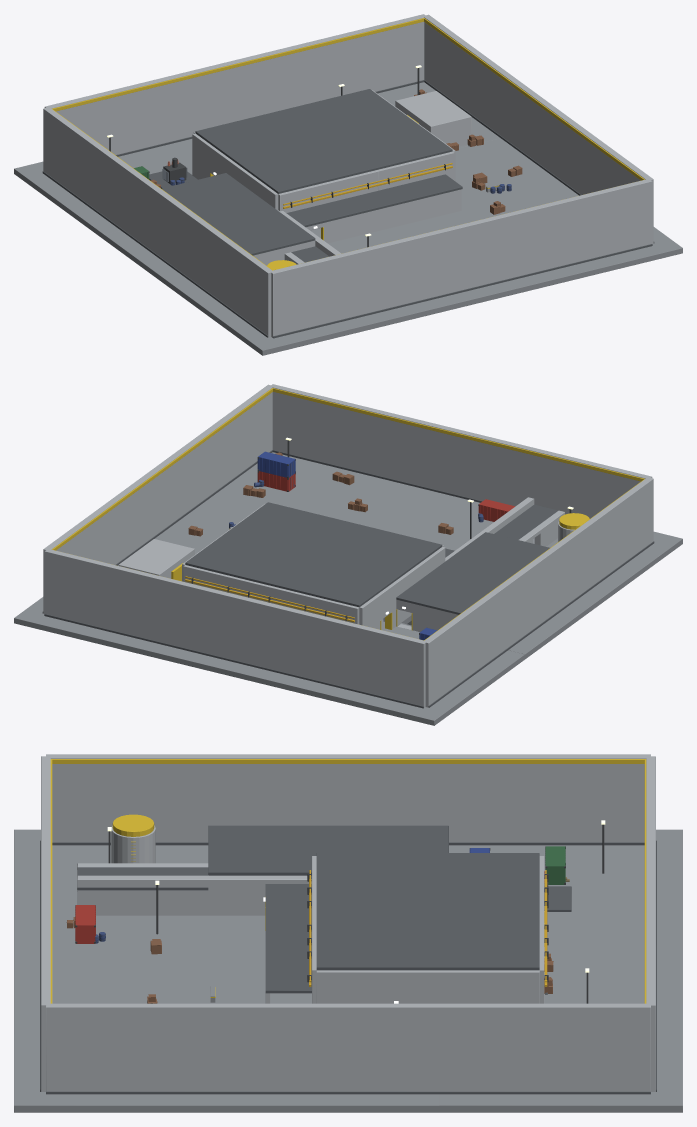
File: hd_nuke.glb
3 renders of one model, top to bottom at view 1: azimuth 30°, elevation 25°; view 2: azimuth 150°, elevation 25°; view 3: azimuth 270°, elevation 25°, orthographic. The views are drawn at different scales.
Parts seen in each view (by area): view 1: Wall_Perimeter_S, Wall_Perimeter_N, Wall_Perimeter_W, SiteA_Roof_Deck, Wall_Perimeter_E, Terrain_Concrete_Ground_4, Terrain_Concrete_Ground_0, SiteB_Roof, Terrain_Concrete_Ground_1, Lobby_Roof, Lobby_Wall_S_B, Terrain_Concrete_Ground_2 (+10 smaller); view 2: Wall_Perimeter_N, Wall_Perimeter_S, Wall_Perimeter_W, SiteA_Roof_Deck, Wall_Perimeter_E, Terrain_Concrete_Ground_4, Terrain_Concrete_Ground_1, SiteB_Roof, Terrain_Concrete_Ground_2, Trim_Kerb_NonCol, Terrain_Concrete_Ground_0, SiteA_Wall_N_B (+15 smaller); view 3: Wall_Perimeter_E, Wall_Perimeter_W, SiteA_Roof_Deck, Terrain_Concrete_Ground_1, Terrain_Concrete_Ground_4, Terrain_Concrete_Ground_0, SiteB_Roof, SiteB_Wall_E, Lobby_Roof, SiteA_Wall_E_B, Trim_Kerb_NonCol, Hazard_Trim_W (+16 smaller).
Part boxes in pixels (x1,y1,x2,y2): Wall_Perimeter_S: [270, 179, 652, 337]; Wall_Perimeter_N: [44, 14, 426, 154]; Wall_Perimeter_W: [43, 107, 273, 337]; SiteA_Roof_Deck: [195, 89, 452, 193]; Wall_Perimeter_E: [424, 14, 653, 243]; Terrain_Concrete_Ground_4: [311, 138, 658, 253]; Terrain_Concrete_Ground_0: [239, 231, 682, 355]; SiteB_Roof: [161, 173, 315, 255]; Terrain_Concrete_Ground_1: [14, 82, 500, 239]; Lobby_Roof: [286, 174, 462, 227]; Lobby_Wall_S_B: [323, 189, 461, 243]; Terrain_Concrete_Ground_2: [104, 231, 255, 338]; Wall_Perimeter_N: [44, 549, 426, 707]; Wall_Perimeter_S: [270, 384, 652, 518]; Wall_Perimeter_W: [424, 477, 653, 707]; SiteA_Roof_Deck: [185, 502, 442, 607]; Wall_Perimeter_E: [43, 384, 273, 613]; Terrain_Concrete_Ground_4: [154, 463, 493, 619]; Terrain_Concrete_Ground_1: [14, 565, 524, 725]; SiteB_Roof: [396, 532, 549, 614]; Terrain_Concrete_Ground_2: [508, 552, 659, 659]; Trim_Kerb_NonCol: [42, 450, 654, 708]; Terrain_Concrete_Ground_0: [271, 452, 682, 560]; SiteA_Wall_N_B: [183, 565, 308, 611]; Wall_Perimeter_E: [46, 1003, 650, 1091]; Wall_Perimeter_W: [46, 754, 650, 842]; SiteA_Roof_Deck: [316, 853, 539, 970]; Terrain_Concrete_Ground_1: [439, 829, 682, 1112]; Terrain_Concrete_Ground_4: [77, 915, 439, 1112]; Terrain_Concrete_Ground_0: [14, 829, 77, 1112]; SiteB_Roof: [208, 825, 448, 875]; SiteB_Wall_E: [77, 875, 311, 915]; Lobby_Roof: [265, 884, 311, 993]; SiteA_Wall_E_B: [408, 970, 539, 1003]; Trim_Kerb_NonCol: [40, 840, 656, 1094]; Hazard_Trim_W: [51, 759, 646, 763].
Size of what is drawn, in the model's own units: 246 by 50.78 by 252.
